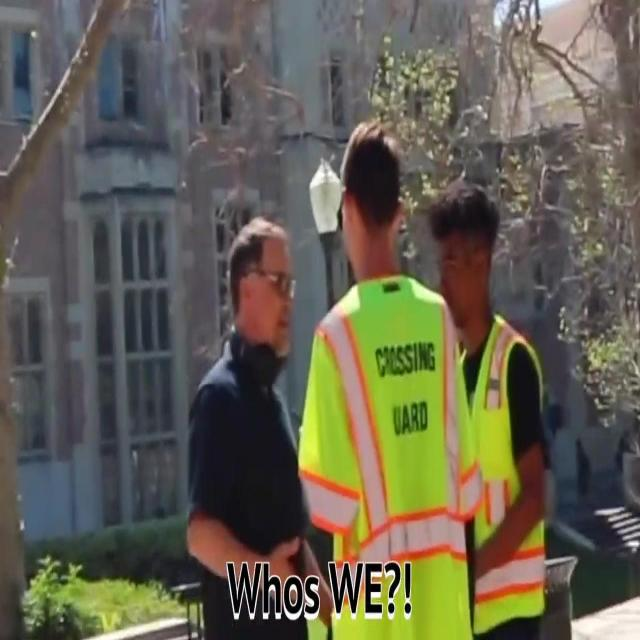Vest: (296, 274, 472, 639), (472, 310, 548, 638)
